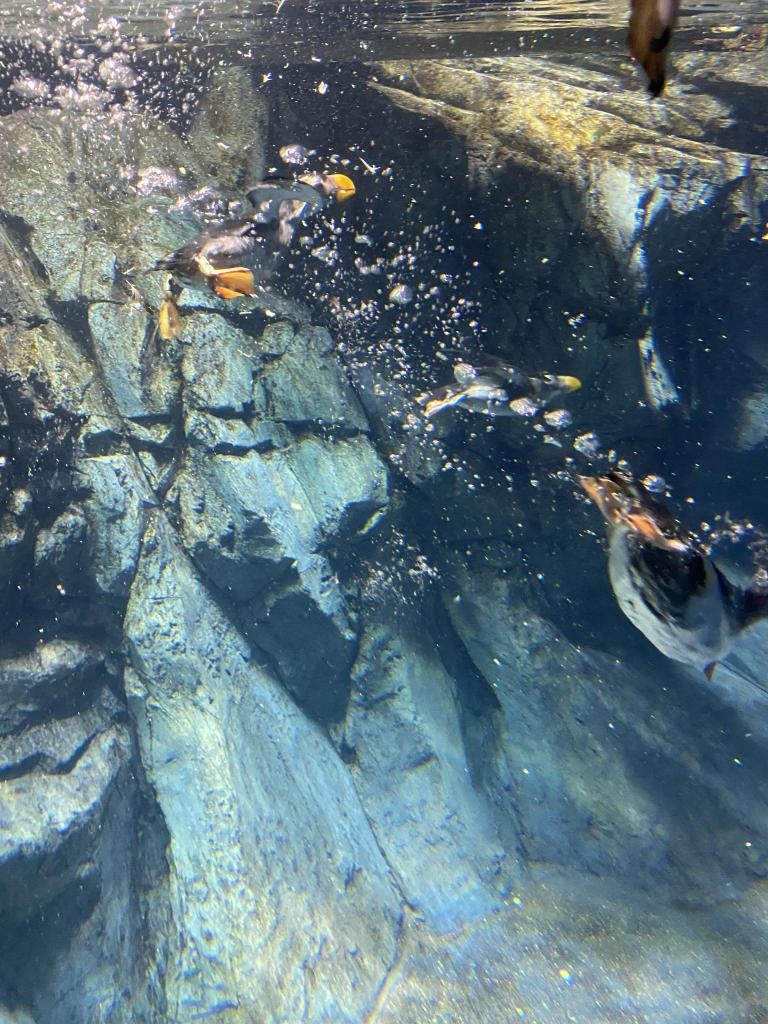puffin: (123, 154, 365, 342), (576, 462, 762, 676), (413, 360, 589, 422)
